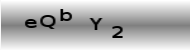2: (110, 25, 124, 38)
Q: (38, 13, 56, 30)
Y: (88, 17, 103, 30)
b: (59, 8, 72, 22)
e: (24, 18, 38, 28)
